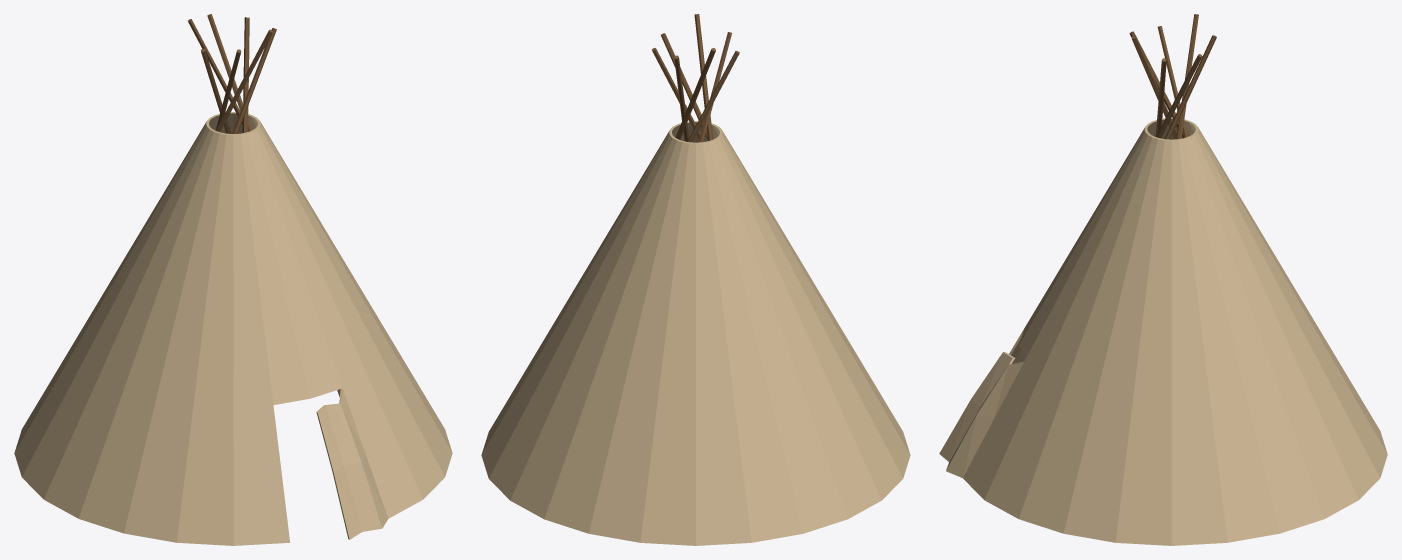
Rendered from NEW_RECOVERY_124_LOD2.glb.
3 renders of one model, left to right at view 1: azimuth 30°, elevation 25°; view 2: azimuth 150°, elevation 25°; view 3: azimuth 270°, elevation 25°, orthographic. The views are drawn at different scales.
Visible parts, largest first — view 1: Finite_canvas_shell_and_attached_folded_flap, Pole_05, Pole_04, Pole_06, Pole_00; view 2: Finite_canvas_shell_and_attached_folded_flap, Pole_04, Pole_02, Pole_01; view 3: Finite_canvas_shell_and_attached_folded_flap, Pole_00, Pole_01.
Part boxes in pixels (bbox=[...]): Finite_canvas_shell_and_attached_folded_flap: bbox=[14, 112, 452, 545]; Pole_05: bbox=[232, 28, 276, 133]; Pole_04: bbox=[216, 29, 272, 131]; Pole_06: bbox=[242, 17, 249, 132]; Pole_00: bbox=[207, 14, 340, 396]; Finite_canvas_shell_and_attached_folded_flap: bbox=[481, 121, 910, 545]; Pole_04: bbox=[694, 14, 713, 140]; Pole_02: bbox=[687, 51, 739, 142]; Pole_01: bbox=[675, 48, 715, 139]; Finite_canvas_shell_and_attached_folded_flap: bbox=[939, 118, 1387, 545]; Pole_00: bbox=[1164, 35, 1216, 139]; Pole_01: bbox=[1176, 14, 1198, 139].
Size of the model in its own units: 4 by 4.36 by 4.15.
